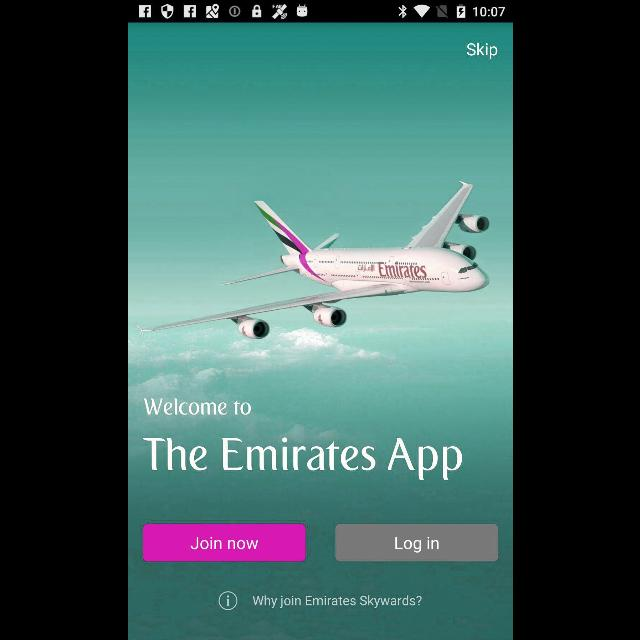backgroundimage: (128, 22, 512, 640)
icon: (218, 592, 236, 610)
text: (142, 438, 462, 480), (252, 596, 420, 608), (143, 398, 251, 416), (466, 42, 496, 59)
textbutton: (334, 524, 498, 562), (143, 524, 305, 562)
uppertaskbar: (128, 1, 512, 23)
